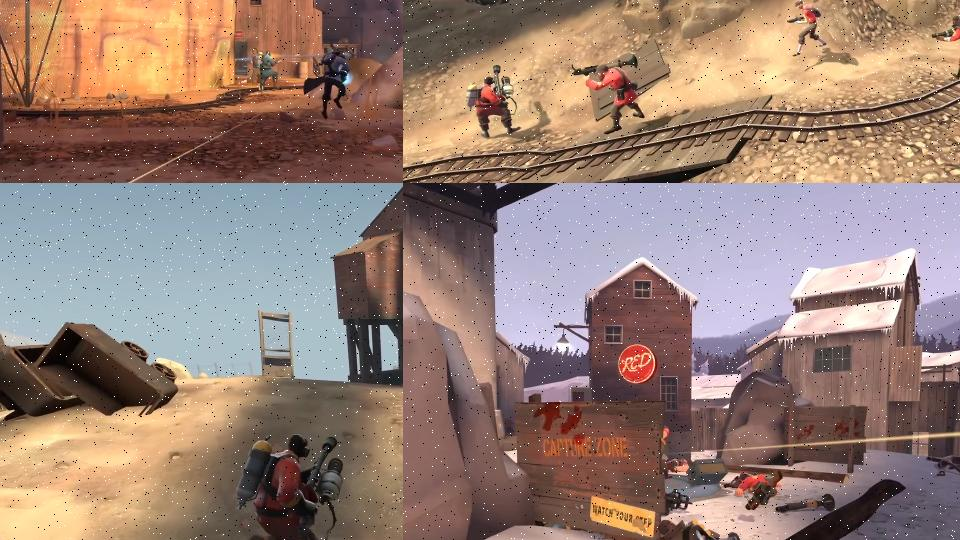Enemy: (230, 429, 356, 540), (571, 53, 647, 135), (466, 64, 523, 139), (303, 51, 351, 119), (722, 470, 778, 516), (655, 517, 766, 540), (785, 0, 828, 57), (930, 12, 960, 80), (253, 51, 281, 96), (928, 452, 960, 483)
